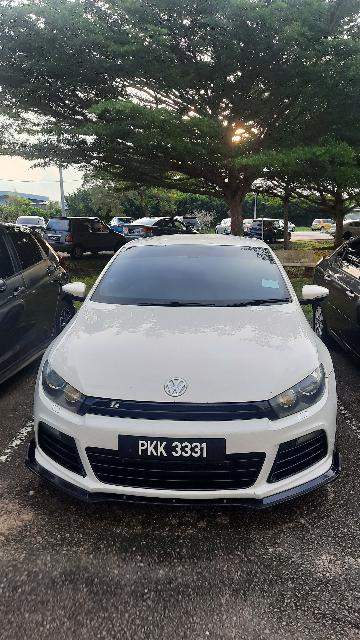License_Plate: (118, 434, 230, 467)
car: (25, 228, 345, 514)
